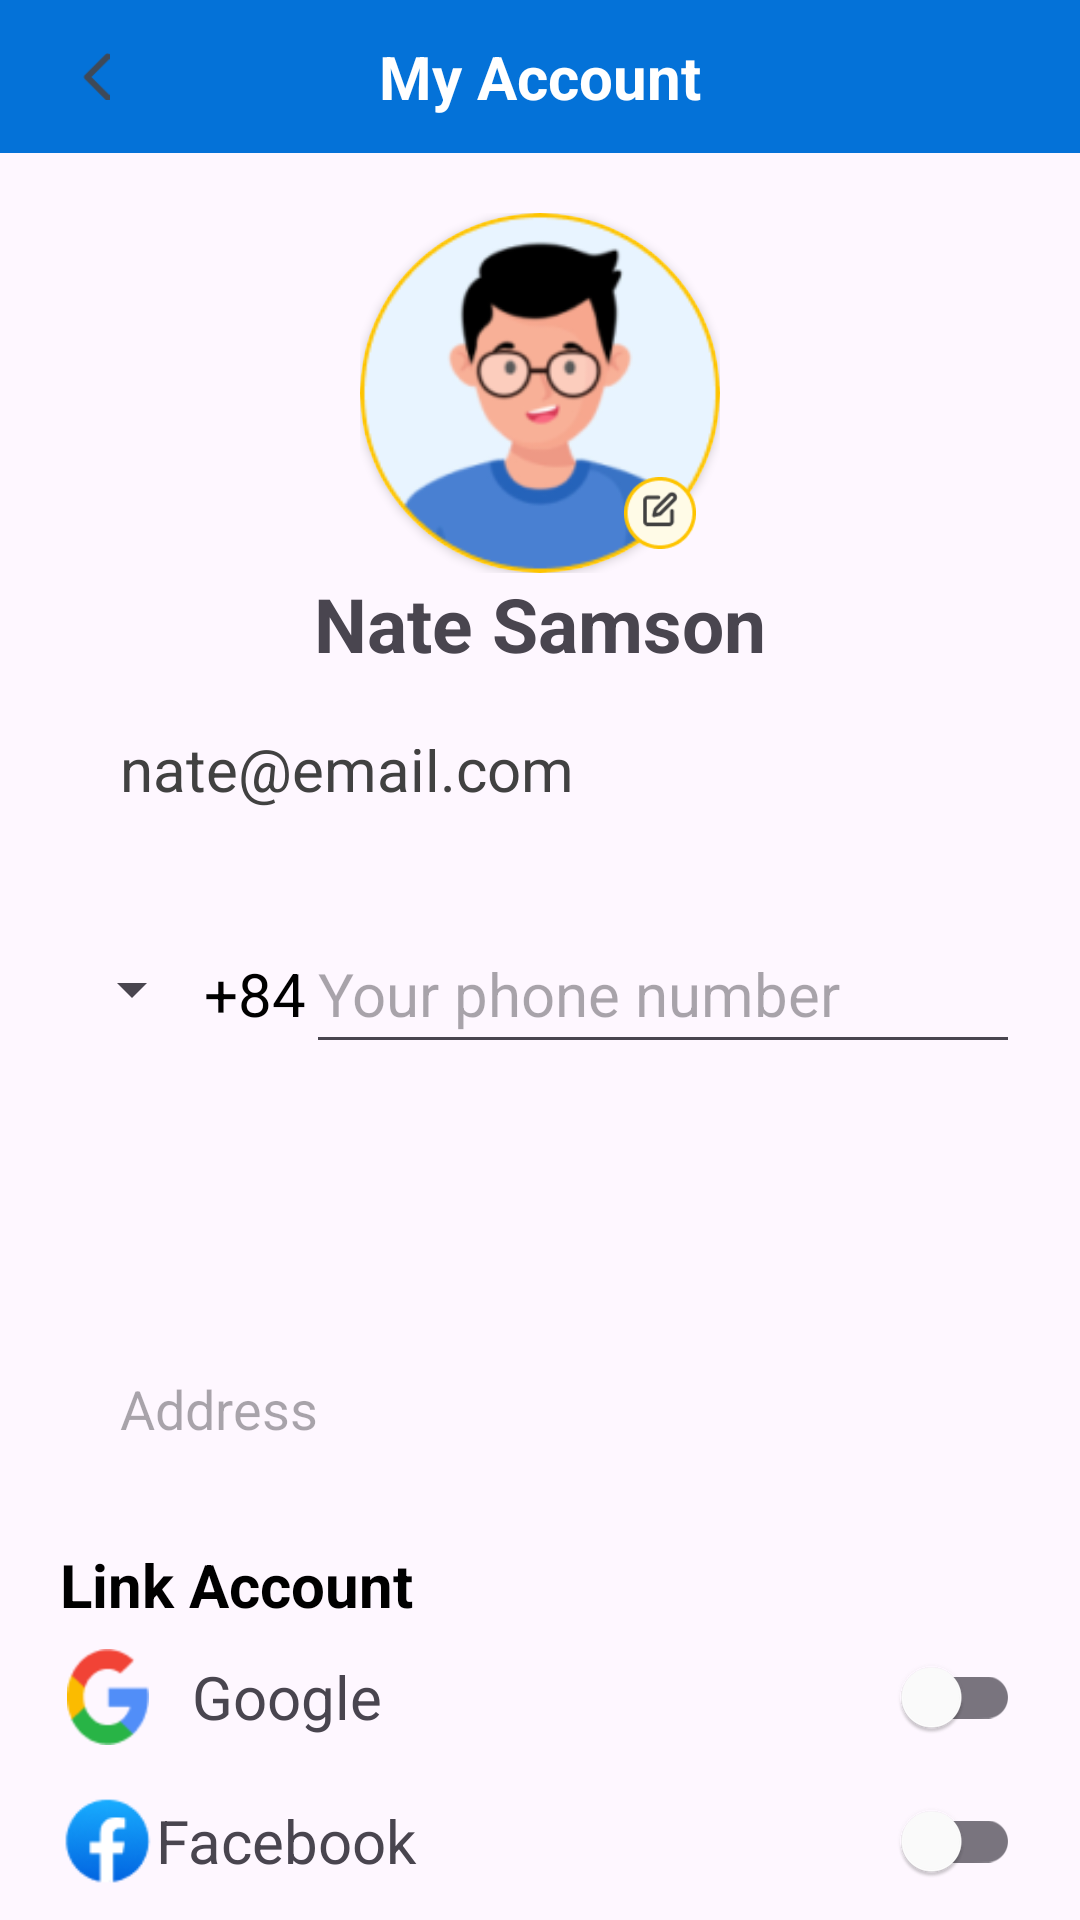

Icon click points for this 1080x1920 phone screenshot, format (x,y):
back: (96,76)
